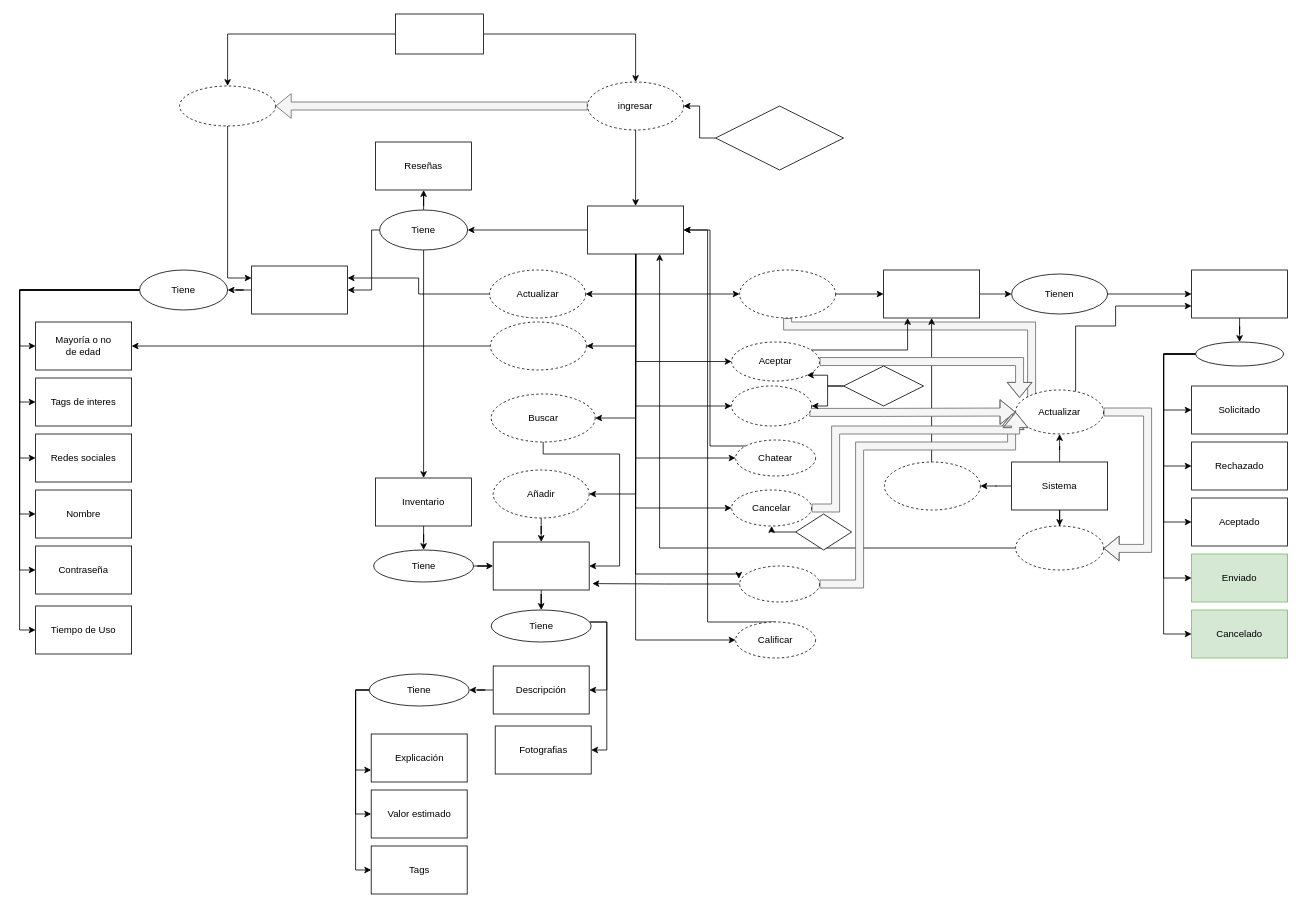
This 1302x908 diagram has some shape labels left out. Here are the shapes that lost their labels. From the top down, the centre of each, then its label:
At pixel 439 33: "Anonimo".
At pixel 227 105: "Registrar".
At pixel 779 137: "Esta registrado".
At pixel 635 229: "Usuario".
At pixel 299 289: "Información".
At pixel 787 293: "Solicitar".
At pixel 931 293: "Canjes".
At pixel 1239 293: "Estado".
At pixel 538 345: "Verificar".
At pixel 1239 353: "Es".
At pixel 771 405: "Rechazar".
At pixel 883 385: "Tiene solicitud".
At pixel 932 485: "Asesorar".
At pixel 823 531: "El estado es aceptado".
At pixel 1059 547: "Notificar".
At pixel 540 565: "Objetos".
At pixel 779 583: "Intercambiar".
